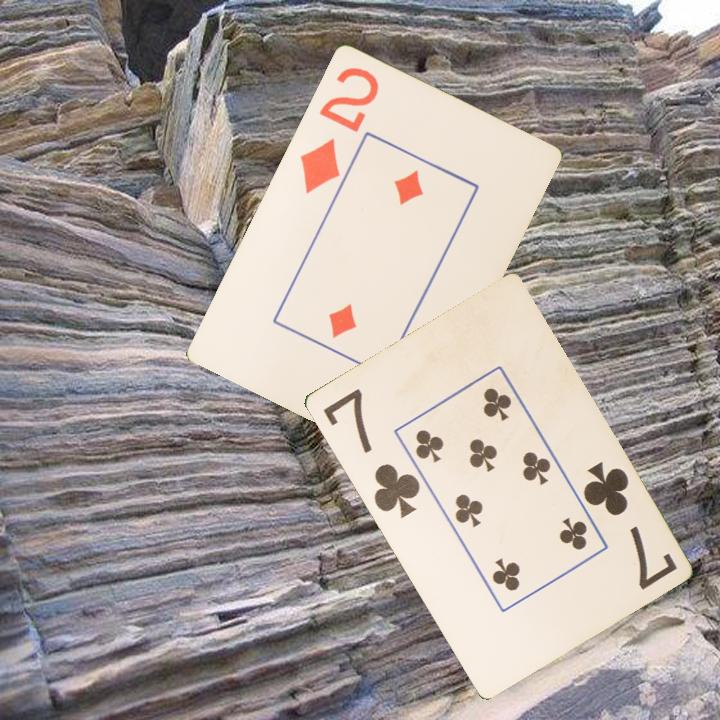2d: (296, 62, 382, 196)
7c: (318, 385, 423, 521), (578, 458, 680, 593)
